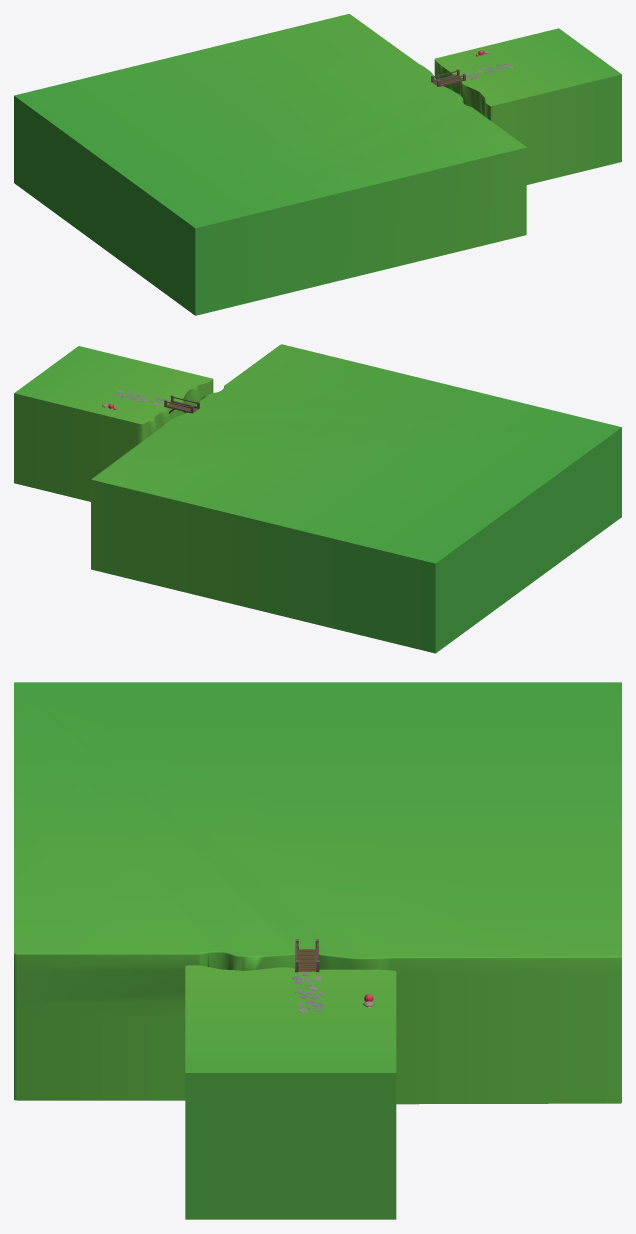
The model's file is Terrain1.1.fbx.
3 renders of one model, top to bottom at view 1: azimuth 30°, elevation 25°; view 2: azimuth 150°, elevation 25°; view 3: azimuth 270°, elevation 25°, orthographic. The views are drawn at different scales.
Visible parts, largest first — view 1: Line001.001, Line002.001; view 2: Line001.001, Line002.001; view 3: Line001.001, Line002.001.
Boxes of the visible parts, <box> form: Line001.001: <box>14,14,526,315</box>; Line002.001: <box>434,28,621,184</box>; Line001.001: <box>91,344,621,653</box>; Line002.001: <box>14,346,213,501</box>; Line001.001: <box>14,682,621,1104</box>; Line002.001: <box>185,965,396,1219</box>.
Bounding box in the file's own units: 7252 × 1363 × 4770.
